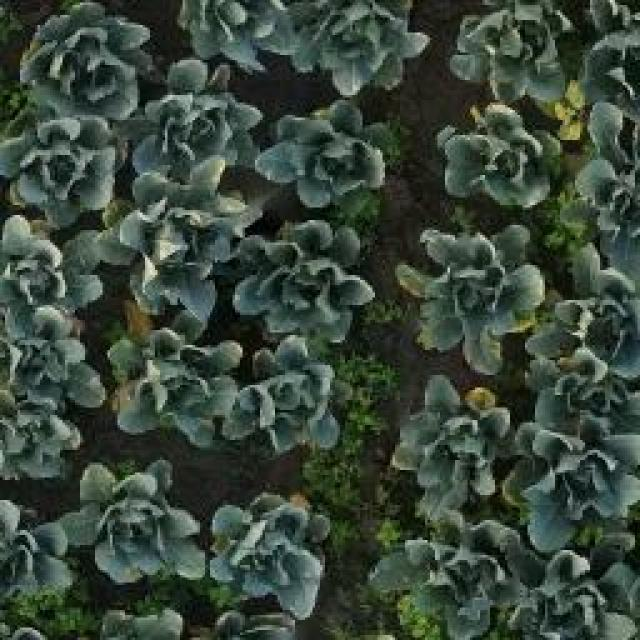cabbage: (517, 382, 640, 549), (407, 224, 543, 371), (111, 173, 242, 313), (373, 506, 515, 630), (388, 374, 514, 511), (73, 456, 206, 584), (106, 326, 245, 445), (236, 216, 374, 335), (203, 486, 329, 612), (127, 62, 265, 174), (534, 249, 640, 393), (438, 101, 568, 212), (18, 1, 142, 117), (447, 0, 579, 102), (238, 332, 348, 454), (289, 0, 431, 91), (268, 99, 388, 201), (0, 302, 108, 410), (0, 215, 107, 322), (10, 121, 110, 219), (0, 388, 95, 479)
